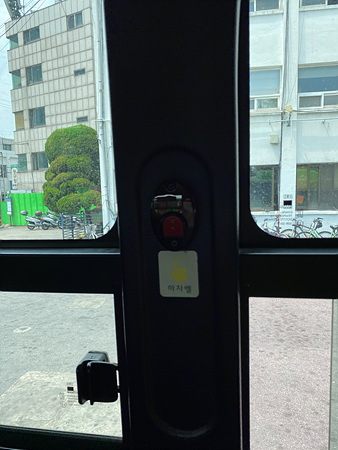bell: (150, 190, 199, 251)
